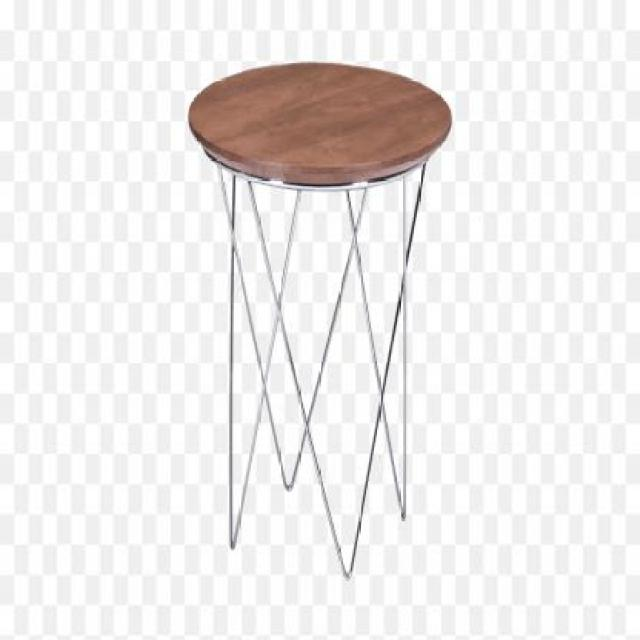table: (181, 53, 453, 579)
